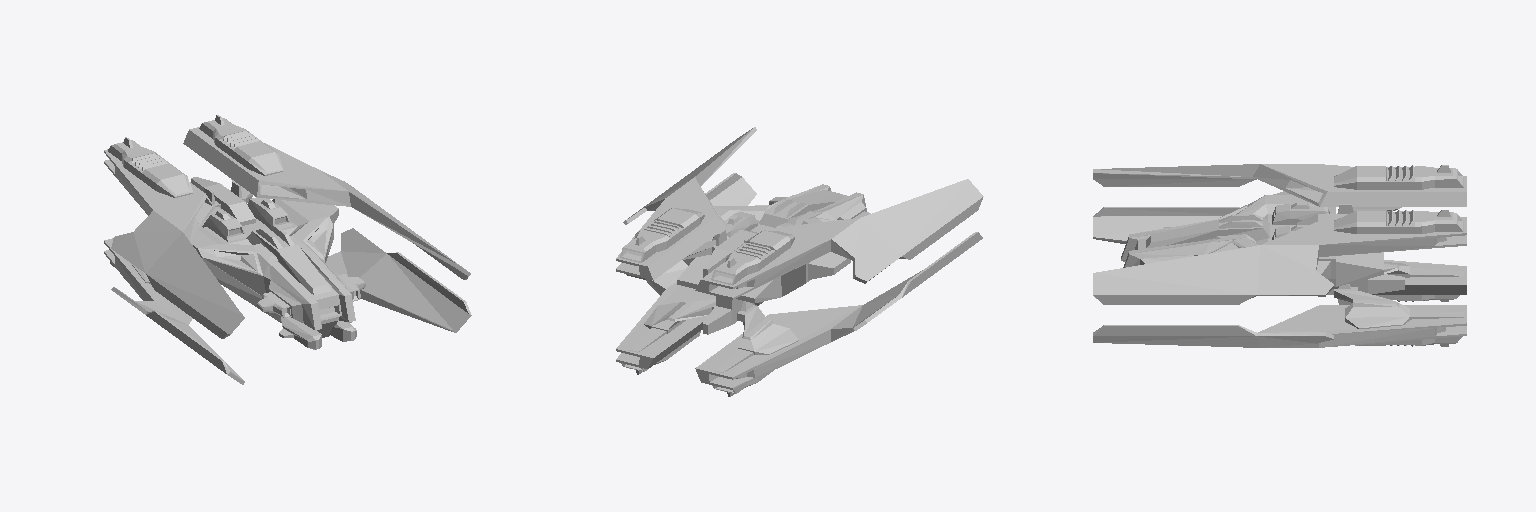
The model's file is ship2.obj.
The picture shows the model from 3 angles: view 1: azimuth 30°, elevation 25°; view 2: azimuth 150°, elevation 25°; view 3: azimuth 270°, elevation 25°; orthographic projection.
Visible parts, largest first — view 1: SciFi_Fighter_MK6.001; view 2: SciFi_Fighter_MK6.001; view 3: SciFi_Fighter_MK6.001.
Boxes of the visible parts, <box> form: SciFi_Fighter_MK6.001: <box>104,115,471,384</box>; SciFi_Fighter_MK6.001: <box>616,127,983,396</box>; SciFi_Fighter_MK6.001: <box>1093,164,1466,347</box>.
Size of the model in its own units: 0.7113 by 0.3796 by 0.9446.